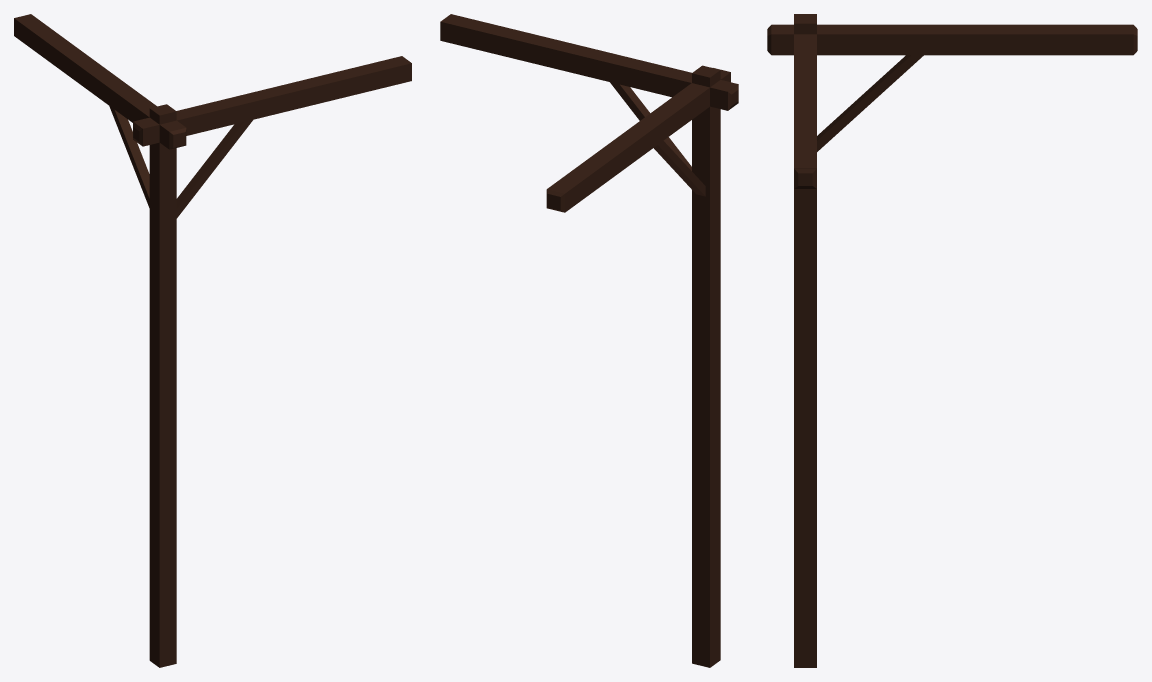
Rendered from Renfort.fbx.
The picture shows the model from 3 angles, left to right: view 1: azimuth 30°, elevation 25°; view 2: azimuth 150°, elevation 25°; view 3: azimuth 270°, elevation 25°; orthographic projection. The views are drawn at different scales.
Parts seen in each view (by area): view 1: Cube.002; view 2: Cube.002; view 3: Cube.002.
Boxes of the visible parts, x1,y1,x2,y2 form: Cube.002: [14, 14, 411, 667]; Cube.002: [440, 14, 738, 667]; Cube.002: [767, 14, 1137, 667].
Size of the model in its own units: 844 by 1637 by 852.
